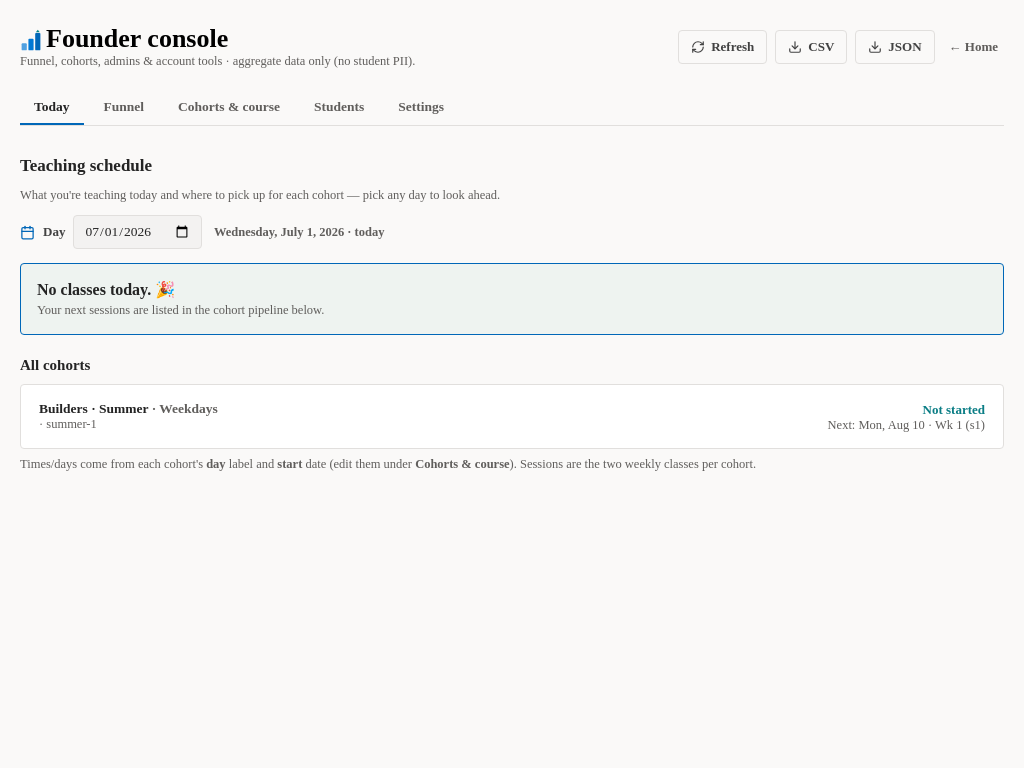
it: FounderDashboard (account-gated) › a cohort (season) segment starts the funnel at Enrolled — drops the un-tagged Visited/Enroll-started rows
Click the button "Funnel". click: (124, 106)
box: [104,99,144,114]
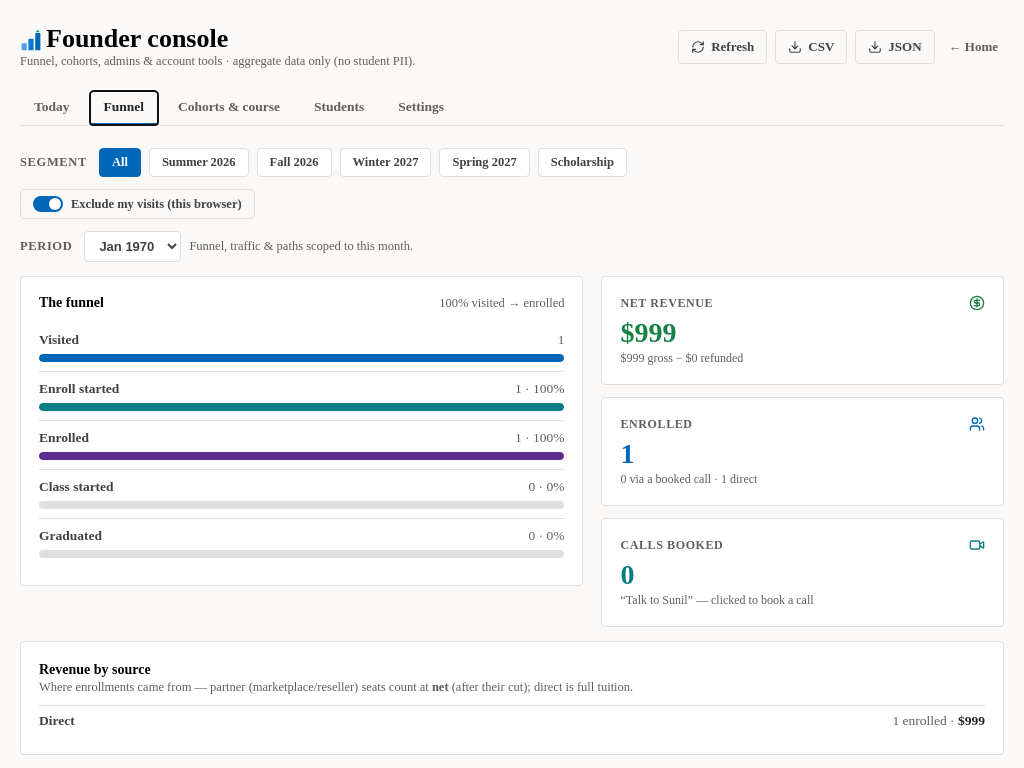
Click the button "Summer 2026". click: (199, 162)
box: [149,148,249,177]
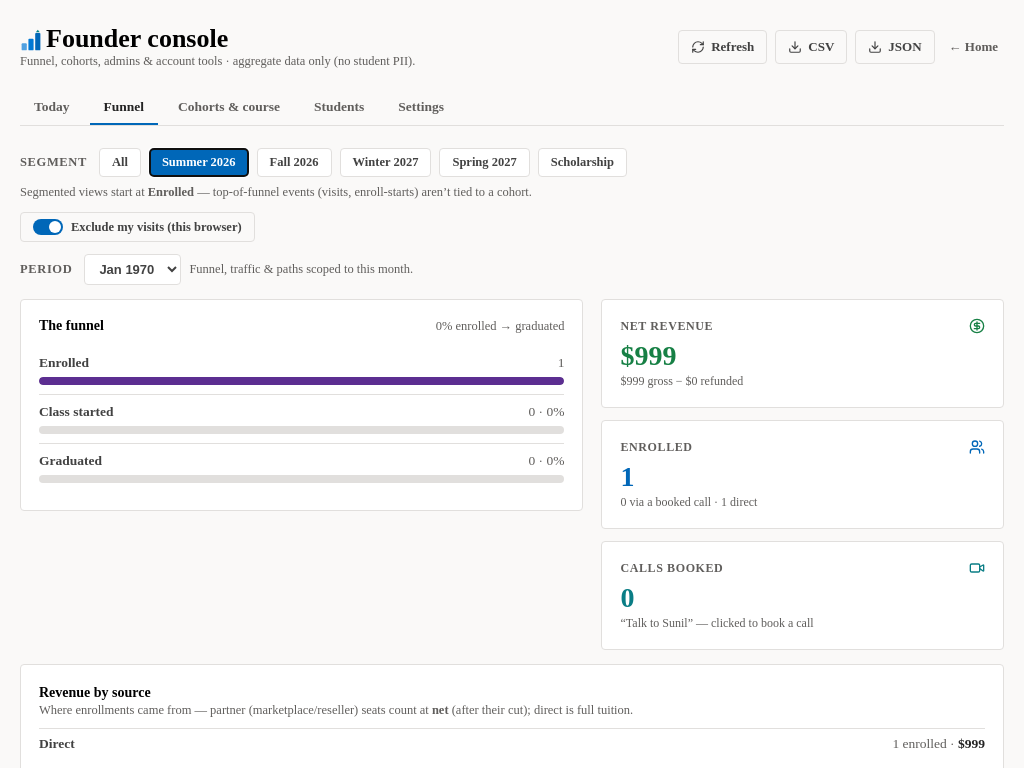
Result: the element named "Funnel stages" shows "Enrolled" at [39,355,89,370]
Result: the field labelled "Funnel stages" no longer shows "Visited"
Result: the text labelled "Funnel stages" no longer shows "Enroll started"
